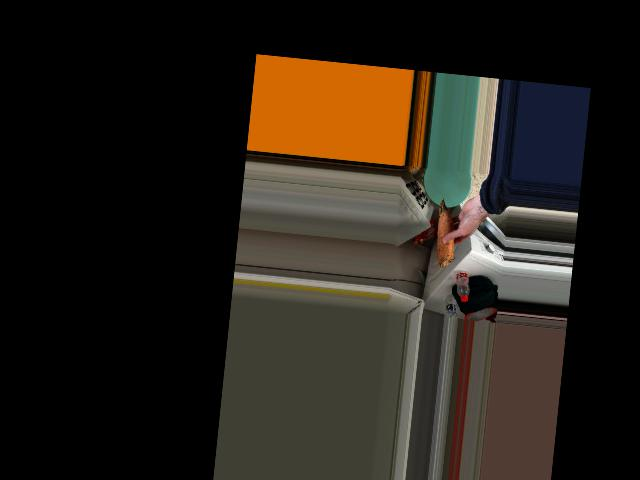sweet_potato: (428, 199, 459, 265)
